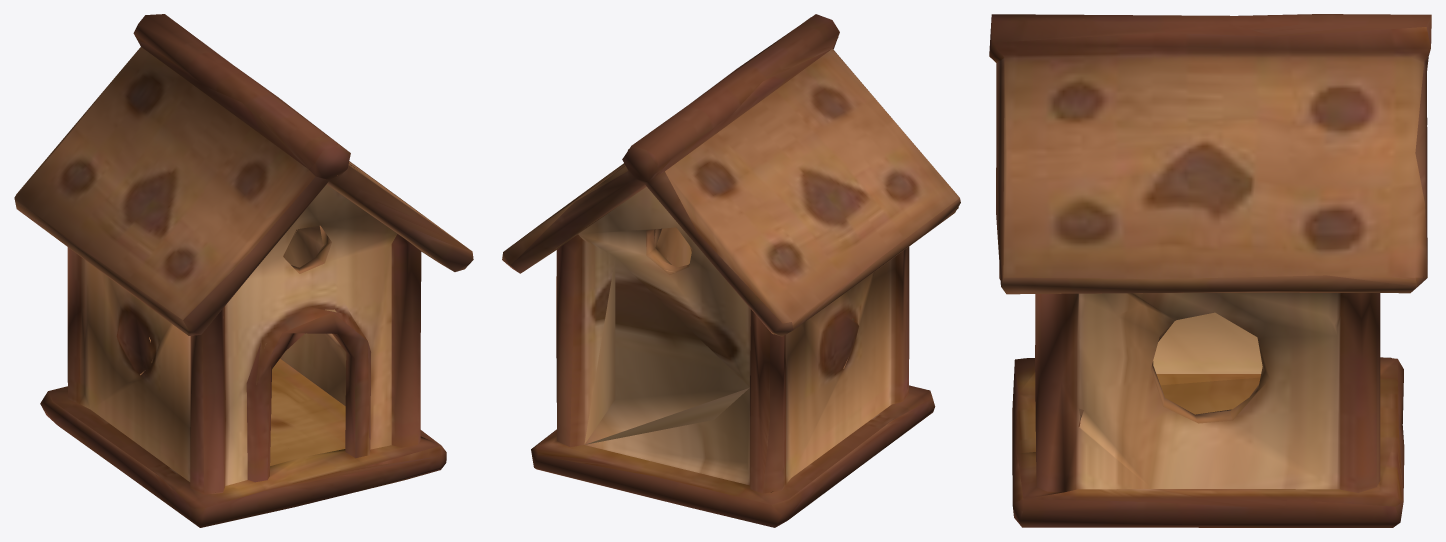
Rendered from lg-dog-house.glb.
3 renders of one model, left to right at view 1: azimuth 30°, elevation 25°; view 2: azimuth 150°, elevation 25°; view 3: azimuth 270°, elevation 25°, orthographic. The views are drawn at different scales.
Visible parts, largest first — view 1: geometry_0; view 2: geometry_0; view 3: geometry_0.
Part boxes in pixels (x1,y1,x2,y2): geometry_0: (14, 14, 473, 527); geometry_0: (502, 14, 960, 527); geometry_0: (989, 14, 1431, 527).
Size of the model in its own units: 0.835 by 1 by 0.9101.
Materials: 1 (1 with a texture image).
